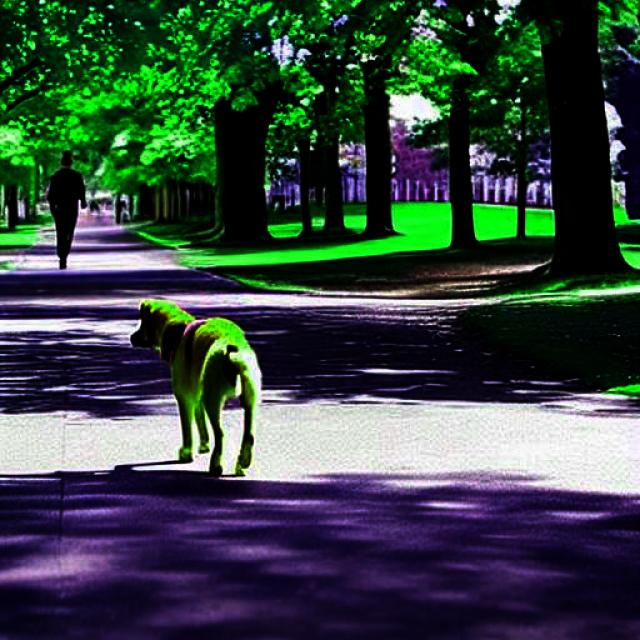Dog: (129, 299, 263, 477)
